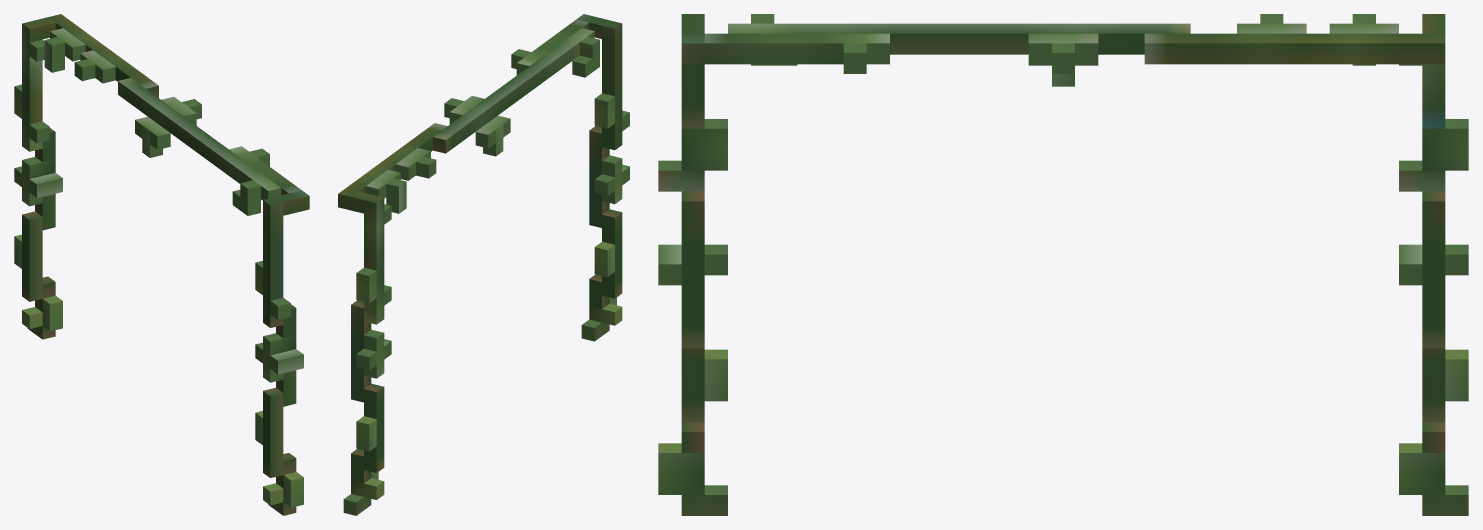
File: VineWallDecor_00.obj
3 views of the same model, side by side, from view 1: azimuth 30°, elevation 25°; view 2: azimuth 150°, elevation 25°; view 3: azimuth 270°, elevation 25° (orthographic). The views are drawn at different scales.
Visible parts, largest first — view 1: VineWallDecor_00; view 2: VineWallDecor_00; view 3: VineWallDecor_00.
Part boxes in pixels (x1=…): VineWallDecor_00: x1=14, y1=14, x2=309, y2=515; VineWallDecor_00: x1=338, y1=14, x2=629, y2=515; VineWallDecor_00: x1=658, y1=14, x2=1468, y2=515.
Bounding box in the file's own units: 0.2 × 1.15 × 1.75.
